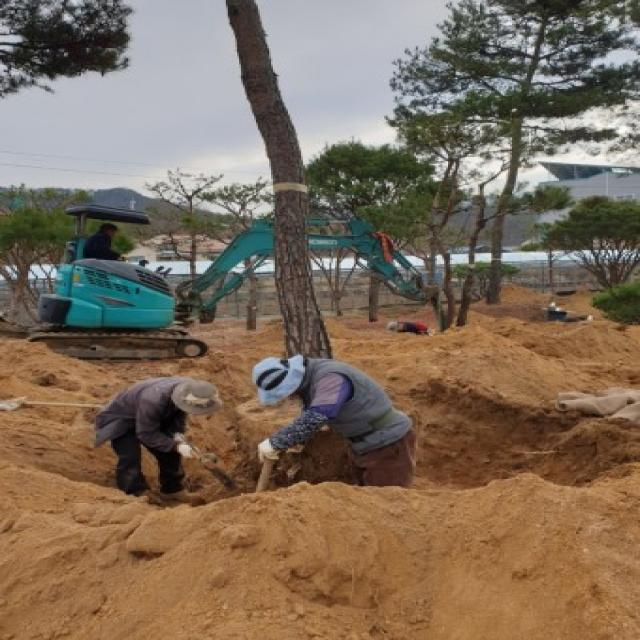excavator: (30, 204, 442, 361)
plant: (225, 0, 422, 488), (387, 0, 640, 304), (304, 142, 438, 322), (540, 194, 640, 286)
